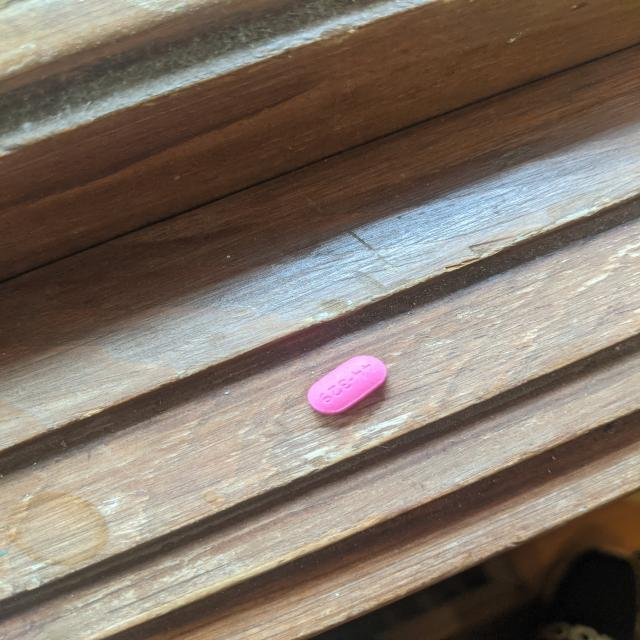non-organic waste: (306, 354, 388, 416)
